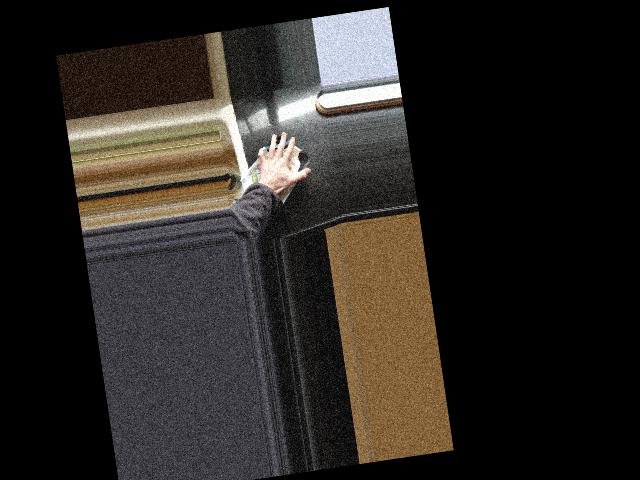cheese: (231, 129, 317, 214)
